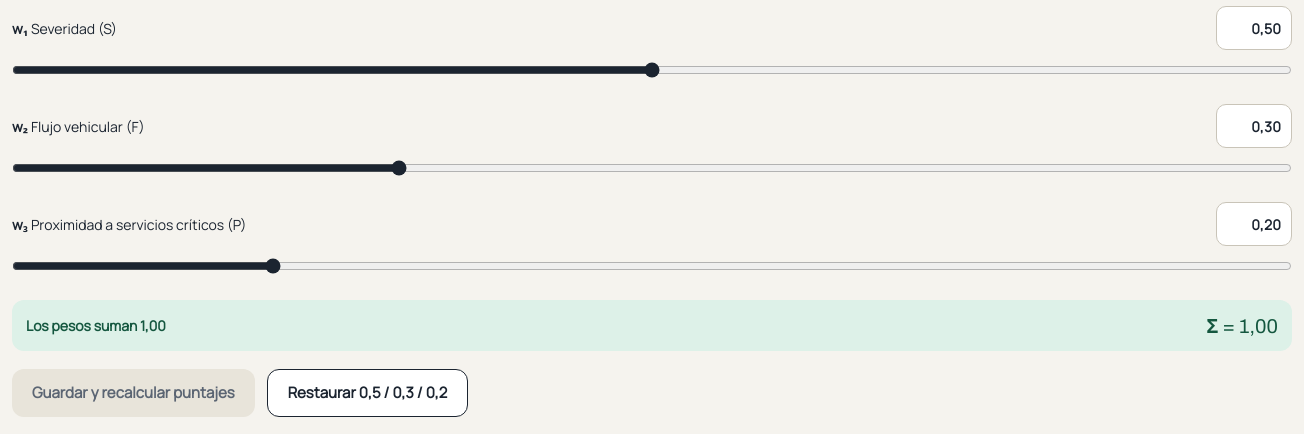
Test: formulario de pesos › el deslizador y el campo muestran el mismo valor
Set the slider named "Severidad" to "65" at (842, 70), box [12,54,1292,86]
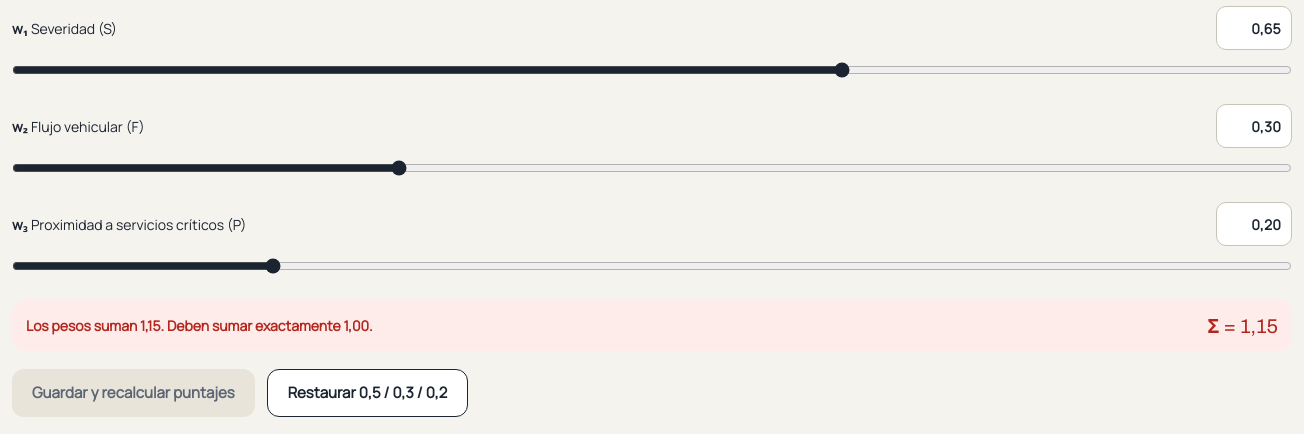
expect the field labelled "w₁ Severidad (S)" holds "0,65": met, box [1216,6,1292,50]
expect the text "Σ = 1,15" is shown: met, box [1208,312,1278,339]
